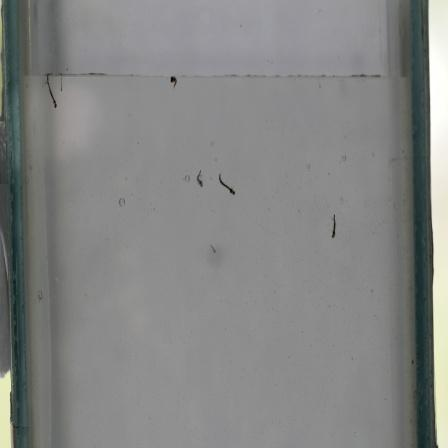Jentik-Nyamuk: (41, 73, 68, 112), (215, 171, 238, 199), (328, 212, 340, 241), (167, 72, 181, 92), (194, 167, 207, 188)
